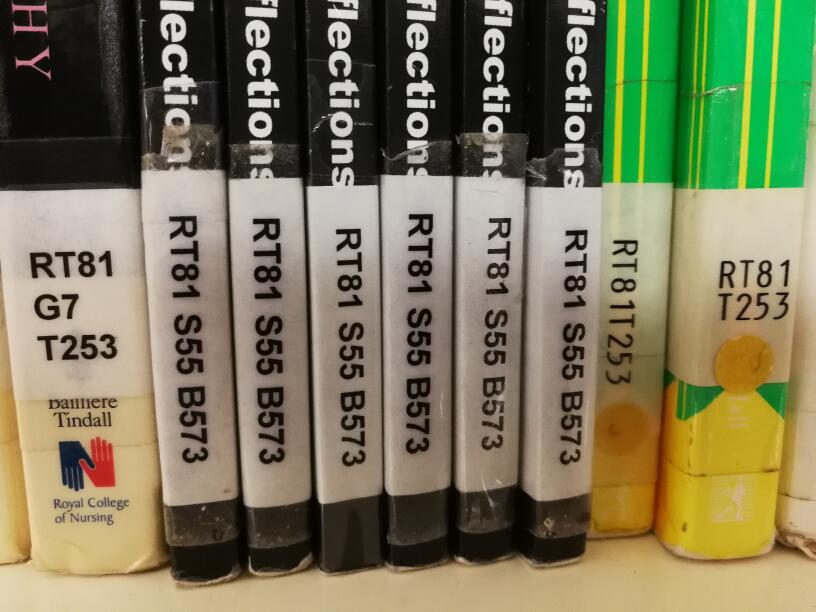booklabel: (164, 211, 214, 465), (25, 247, 126, 365), (247, 214, 290, 467), (329, 224, 370, 468), (478, 212, 514, 453), (556, 226, 591, 467), (402, 208, 434, 456), (604, 234, 640, 387), (713, 255, 793, 323)
